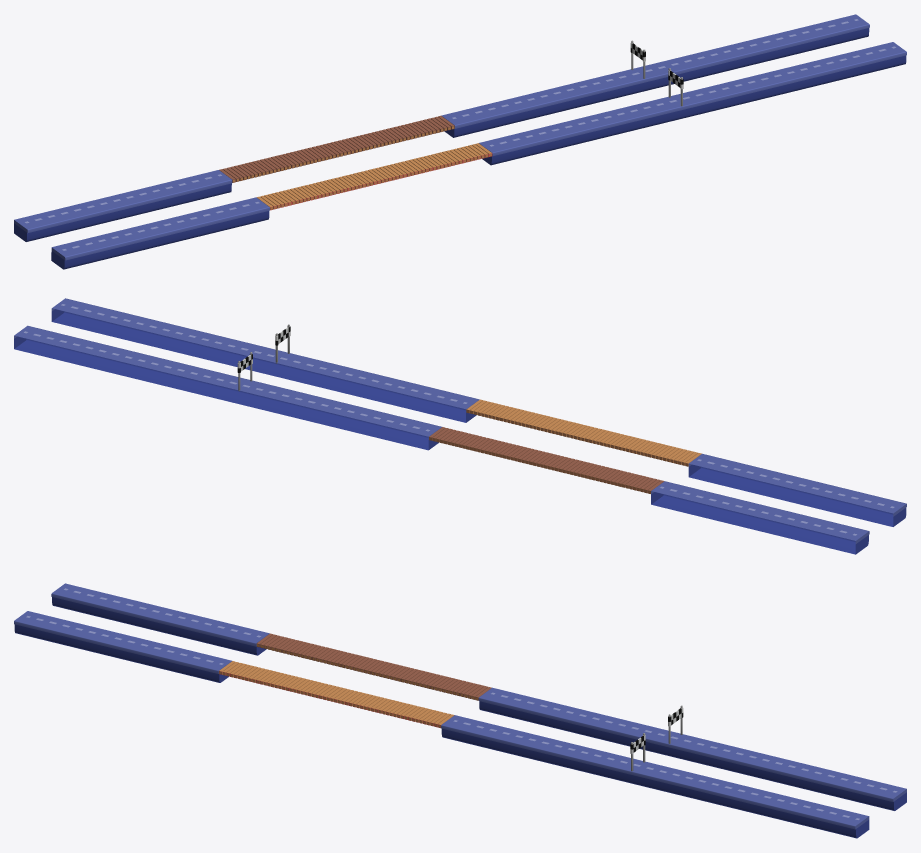
Rendered from Ride_Master_Road.glb.
3 views of the same model, one above another, from view 1: azimuth 30°, elevation 25°; view 2: azimuth 150°, elevation 25°; view 3: azimuth 330°, elevation 25° (orthographic).
Visible parts, largest first — view 1: Road_platform.003, Road_platform.001, Road_platform.002, Road_platform; view 2: Road_platform.001, Road_platform.003, Road_platform.002, Road_platform; view 3: Road_platform.003, Road_platform.001, Road_platform.002, Road_platform.
Part boxes in pixels (bbox=[...]): Road_platform.003: bbox=[479, 42, 906, 165]; Road_platform.001: bbox=[441, 14, 869, 137]; Road_platform.002: bbox=[51, 197, 269, 269]; Road_platform: bbox=[14, 170, 232, 241]; Road_platform.001: bbox=[14, 325, 441, 450]; Road_platform.003: bbox=[51, 298, 479, 422]; Road_platform.002: bbox=[688, 453, 906, 526]; Road_platform: bbox=[651, 481, 869, 554]; Road_platform.003: bbox=[441, 715, 869, 838]; Road_platform.001: bbox=[478, 687, 906, 810]; Road_platform.002: bbox=[14, 611, 231, 682]; Road_platform: bbox=[51, 583, 269, 655].
Size of the model in its own units: 311 by 14.99 by 32.79.
Materials: 1 (1 with a texture image).
